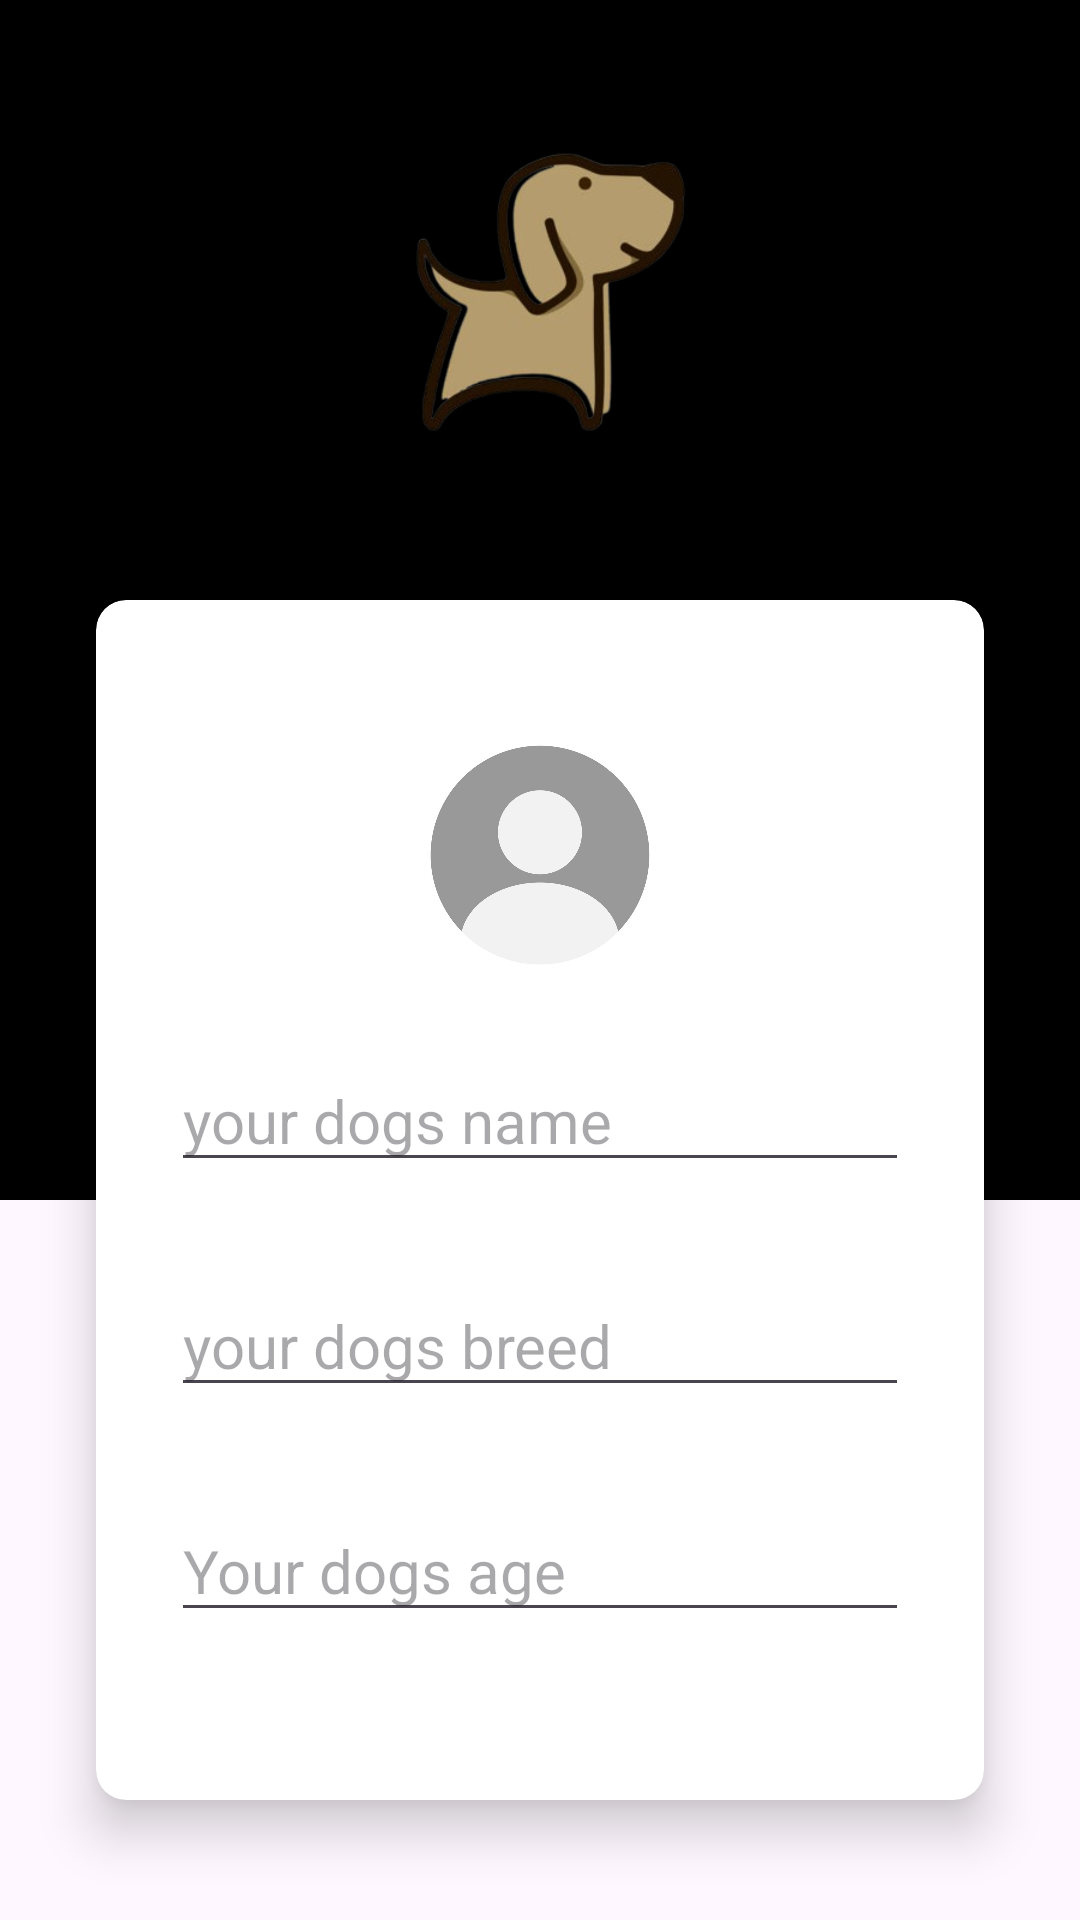

Icon click points for this 1080px x 1920px phone screenshot, format (x,y):
dog: (551,292)
